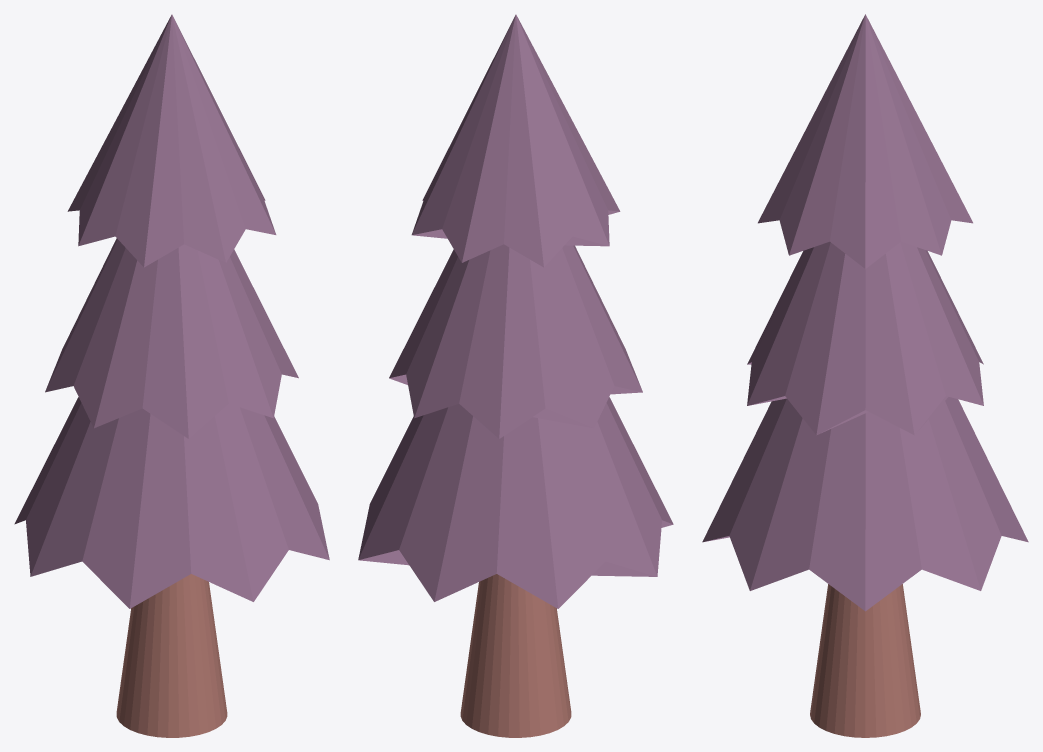
3 views of the same model, side by side, from view 1: azimuth 30°, elevation 25°; view 2: azimuth 150°, elevation 25°; view 3: azimuth 270°, elevation 25° (orthographic).
Parts seen in each view (by area): view 1: Cone, Cone.001, Cone.002, Cylinder; view 2: Cone, Cone.001, Cone.002, Cylinder; view 3: Cone, Cone.001, Cone.002, Cylinder.
Part boxes in pixels (<box>): Cone: <box>14,397,329,608</box>; Cone.001: <box>45,238,298,438</box>; Cone.002: <box>67,14,276,267</box>; Cylinder: <box>116,574,227,737</box>; Cone: <box>358,397,673,608</box>; Cone.001: <box>389,244,642,438</box>; Cone.002: <box>411,14,620,267</box>; Cylinder: <box>460,574,571,737</box>; Cone: <box>702,397,1028,611</box>; Cone.001: <box>747,241,983,435</box>; Cone.002: <box>758,14,972,268</box>; Cylinder: <box>810,584,920,737</box>.
Size of the model in its own units: 67.93 by 161 by 67.93.
